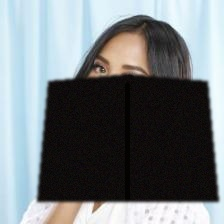Cadar_Niqab: (36, 11, 218, 201)
